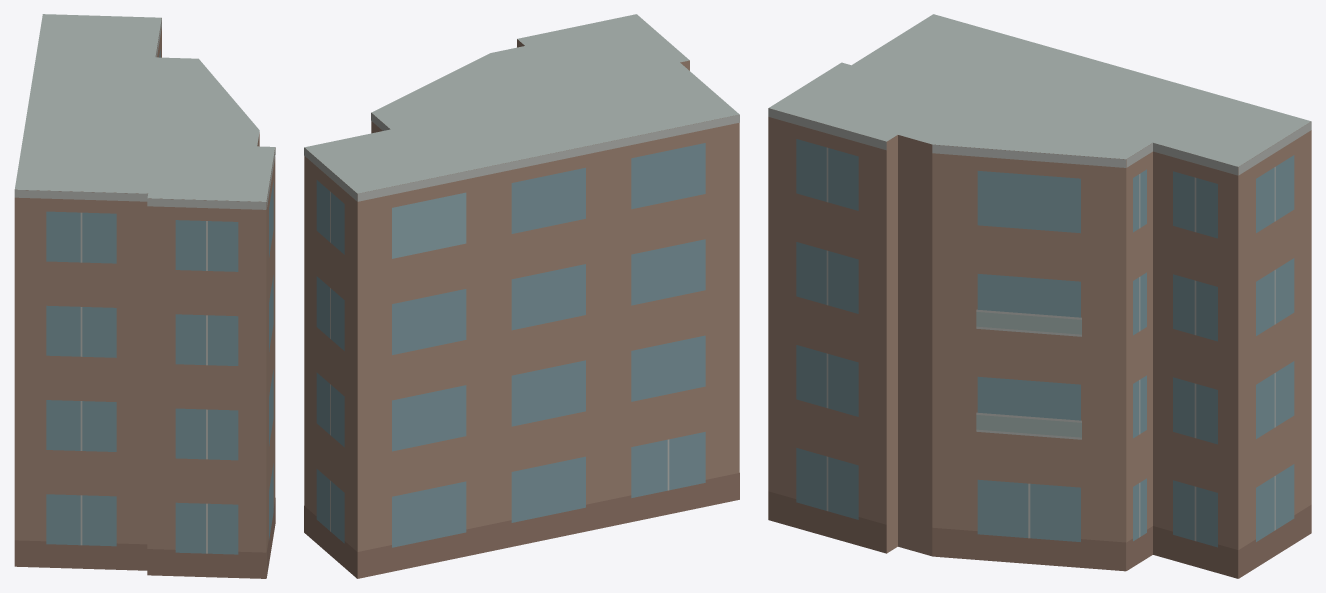
Rendered from survey-upis-32795292.glb.
3 views of the same model, side by side, from view 1: azimuth 30°, elevation 25°; view 2: azimuth 150°, elevation 25°; view 3: azimuth 270°, elevation 25° (orthographic). The views are drawn at different scales.
Parts seen in each view (by area): view 1: survey-upis-32795292.tmp; view 2: survey-upis-32795292.tmp; view 3: survey-upis-32795292.tmp.
Part boxes in pixels (x1,y1,x2,y2): survey-upis-32795292.tmp: (14,14,275,578); survey-upis-32795292.tmp: (304,14,739,578); survey-upis-32795292.tmp: (768,14,1311,578).
Size of the model in its own units: 9.16 by 11.5 by 13.75.
